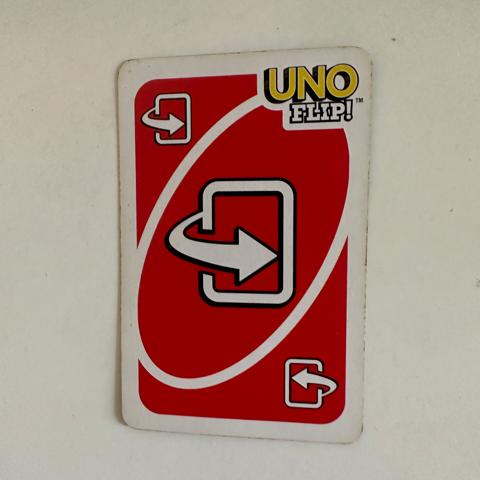lredflip-20: (129, 71, 203, 166)
